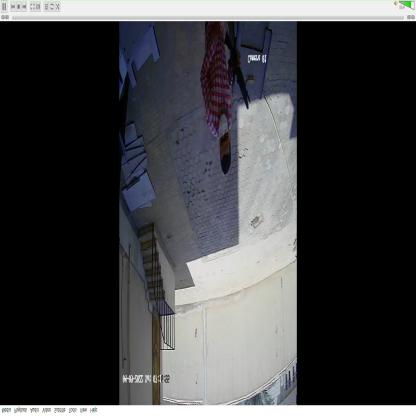handgun: (224, 31, 253, 115)
